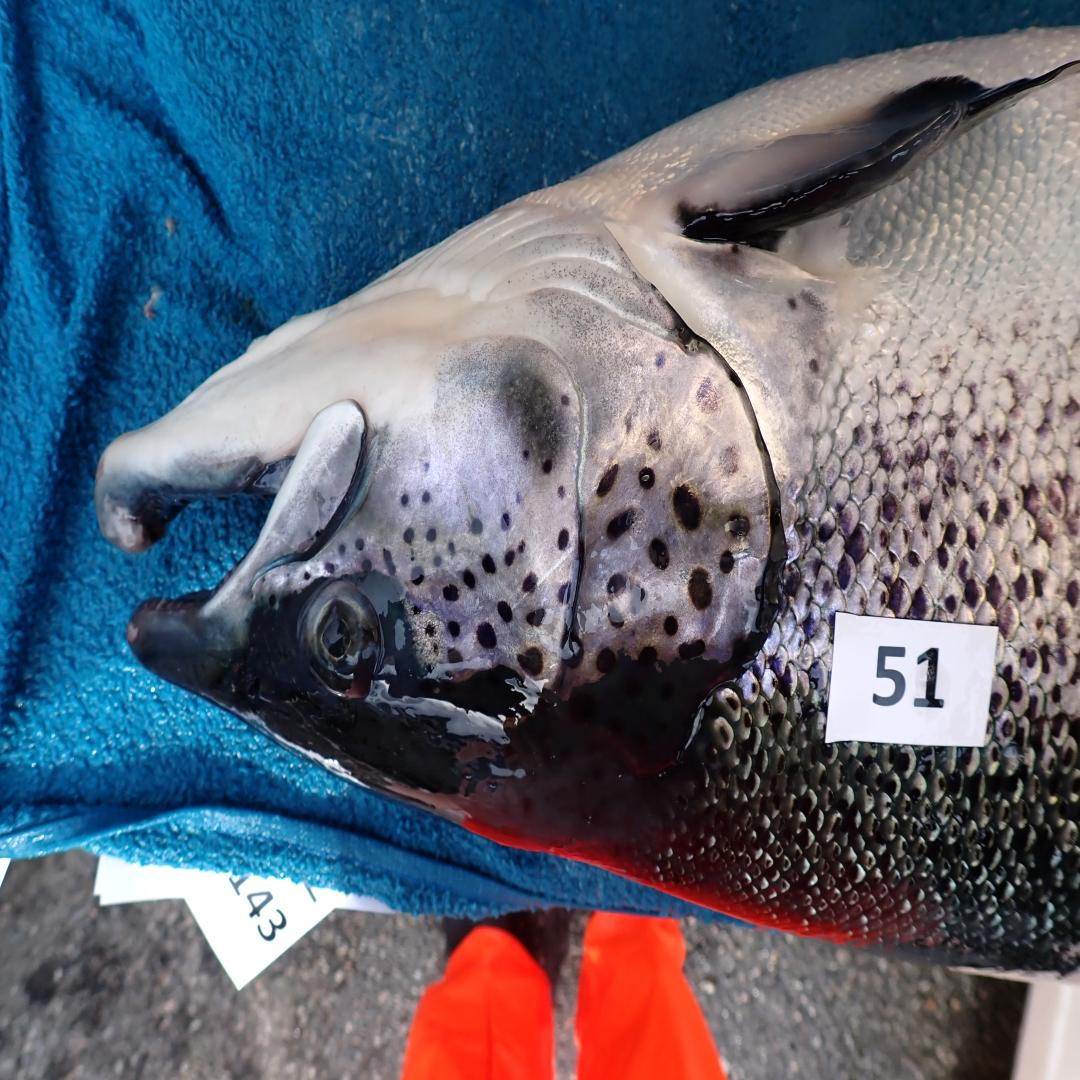roi: (359, 193, 773, 694)
